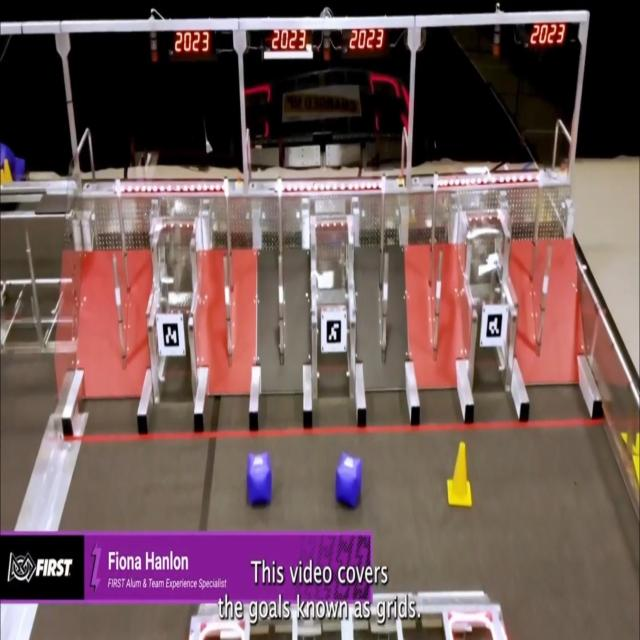frc_cone: (447, 440, 472, 507), (4, 158, 14, 190), (0, 164, 5, 185)
frc_cube: (335, 452, 362, 508), (246, 453, 272, 507), (0, 140, 13, 166), (13, 156, 24, 182)
